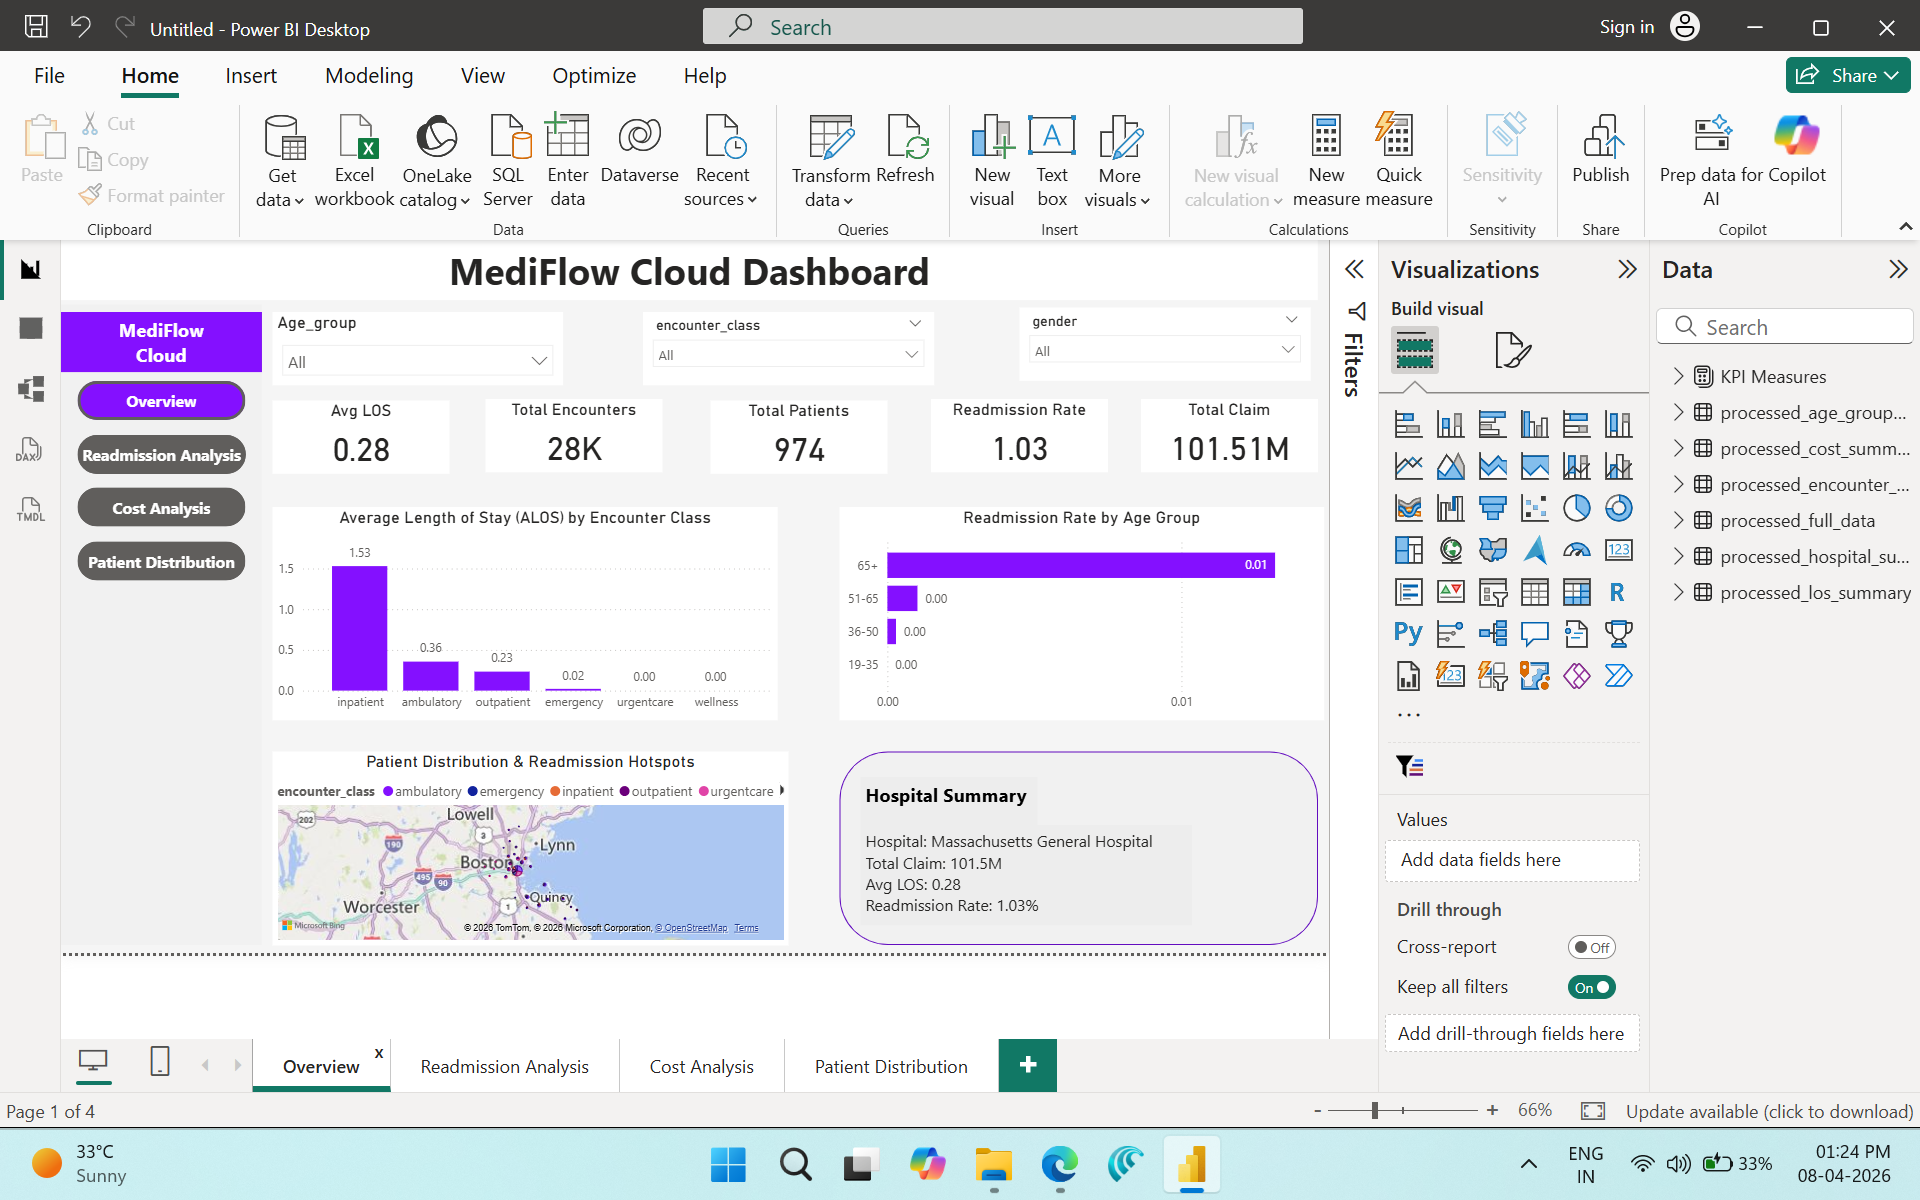

What the dashboard file says about the page in this screenshot:
{"tool":"powerbi","page":{"name":"Overview","canvas":[1280,720],"ordinal":0},"visuals":[{"type":"textbox","box":[0,0,1268.9,60.6],"z":0},{"type":"card","title":"Avg LOS","fields":{"Values":["KPI Measures.Avg LOS"]},"box":[213.5,162,178.7,74.2],"z":1000},{"type":"card","title":"Readmission Rate","fields":{"Values":["KPI Measures.Readmission Rate"]},"box":[878.2,160.5,178.7,74.2],"z":2000},{"type":"card","title":"Total Claim","fields":{"Values":["KPI Measures.Total Claim"]},"box":[1090.2,160.5,178.7,74.2],"z":3000},{"type":"card","title":"Total Encounters","fields":{"Values":["KPI Measures.Total Encounters"]},"box":[428.5,160.5,178.7,74.2],"z":4000},{"type":"card","title":"Total Patients","fields":{"Values":["KPI Measures.Total Patients"]},"box":[655.7,162,178.7,74.2],"z":5000},{"type":"slicer","fields":{"Values":["processed_full_data.encounter_class"]},"box":[587.5,72.7,293.8,74.2],"z":6000},{"type":"slicer","title":"Age_group","fields":{"Values":["processed_full_data.age_group"]},"box":[213.5,72.7,293,74.2],"z":7000},{"type":"slicer","fields":{"Values":["processed_full_data.gender"]},"box":[967.6,68.1,293.8,74.2],"z":8000},{"type":"clusteredBarChart","title":"Readmission Rate by Age Group","fields":{"Category":["processed_full_data.age_group"],"Y":["Avg(processed_full_data.readmitted_30d)"]},"box":[785.9,269.5,489,215],"z":9000},{"type":"clusteredColumnChart","title":"Average Length of Stay (ALOS) by Encounter Class","fields":{"Category":["processed_full_data.encounter_class"],"Y":["Avg(processed_full_data.los_days)"]},"box":[213.5,269.5,510.3,215],"z":10000},{"type":"map","title":"Patient Distribution & Readmission Hotspots","fields":{"Size":["Sum(processed_full_data.total_claim_cost)"],"Series":["processed_full_data.encounter_class"],"Category":["processed_full_data.Location_Full"]},"box":[213.5,516.3,520.9,195.3],"z":11000},{"type":"shape","box":[785.9,516.3,483,195.3],"z":12000},{"type":"textbox","box":[807.1,542.1,178.7,48.5],"z":13000},{"type":"textbox","box":[807.1,590.5,334.6,101.5],"z":14000},{"type":"shape","box":[0,65.1,202.9,646.6],"z":15000},{"type":"shape","box":[0,72.7,202.9,60.6],"z":16000},{"type":"textbox","box":[0,72.7,202.9,60.6],"z":17000},{"type":"actionButton","box":[16.7,142.3,169.6,39.4],"z":18000},{"type":"actionButton","box":[16.7,196.8,170,39.4],"z":19000},{"type":"actionButton","box":[16.7,249.8,169.6,39.4],"z":20000},{"type":"actionButton","box":[16.7,304.4,169.6,39.4],"z":21000},{"type":"textbox","box":[0,366.4,202.9,175.6],"z":21001}]}

Visuals, with their boxes on the page's 1280x720 design canvas (x1, y1, x2, y2). These are canvas units, not pixel positions in the 1920x1200 screenshot, which may show the page scaled, cropped or inside an application window:
textbox: (0, 0, 1269, 61)
"Avg LOS" card: (214, 162, 392, 236)
"Readmission Rate" card: (878, 160, 1057, 235)
"Total Claim" card: (1090, 160, 1269, 235)
"Total Encounters" card: (428, 160, 607, 235)
"Total Patients" card: (656, 162, 834, 236)
slicer - processed_full_data.encounter_class: (588, 73, 881, 147)
"Age_group" slicer: (214, 73, 506, 147)
slicer - processed_full_data.gender: (968, 68, 1261, 142)
"Readmission Rate by Age Group" clusteredBarChart: (786, 270, 1275, 484)
"Average Length of Stay (ALOS) by Encounter Class" clusteredColumnChart: (214, 270, 724, 484)
"Patient Distribution & Readmission Hotspots" map: (214, 516, 734, 712)
shape: (786, 516, 1269, 712)
textbox: (807, 542, 986, 591)
textbox: (807, 590, 1142, 692)
shape: (0, 65, 203, 712)
shape: (0, 73, 203, 133)
textbox: (0, 73, 203, 133)
actionButton: (17, 142, 186, 182)
actionButton: (17, 197, 187, 236)
actionButton: (17, 250, 186, 289)
actionButton: (17, 304, 186, 344)
textbox: (0, 366, 203, 542)
